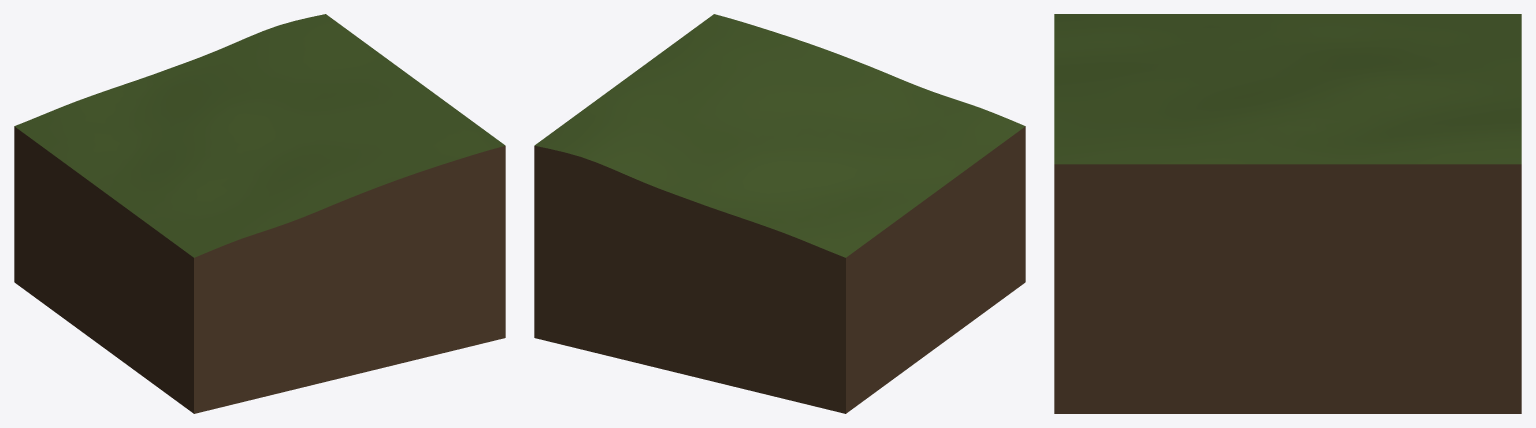
The picture shows the model from 3 angles, left to right: view 1: azimuth 30°, elevation 25°; view 2: azimuth 150°, elevation 25°; view 3: azimuth 270°, elevation 25°; orthographic projection. The views are drawn at different scales.
Parts seen in each view (by area): view 1: e0go; view 2: e0go; view 3: e0go.
Boxes of the visible parts, box(x1,y1,x2,y2) form: e0go: box(14, 14, 505, 413); e0go: box(534, 14, 1025, 413); e0go: box(1054, 14, 1521, 413).
Bounding box in the file's own units: 9 × 5.33 × 9.
